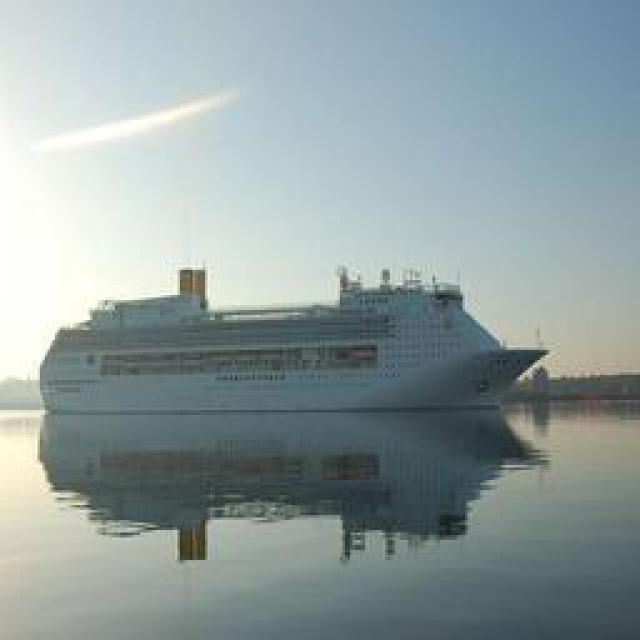Ship: (45, 260, 543, 525)
